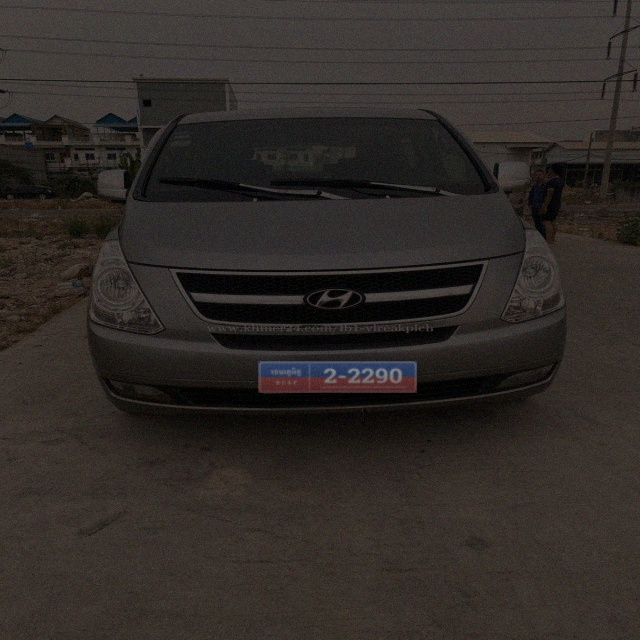Plate Number: (259, 361, 417, 393)
